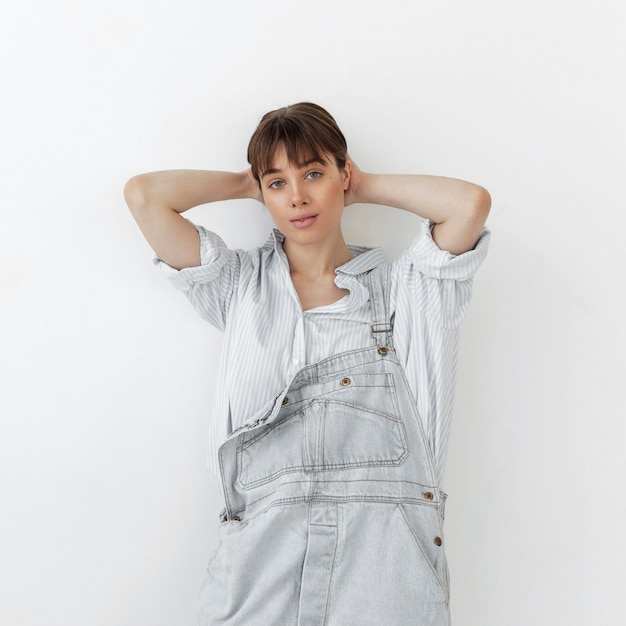teen: (228, 84, 364, 277)
